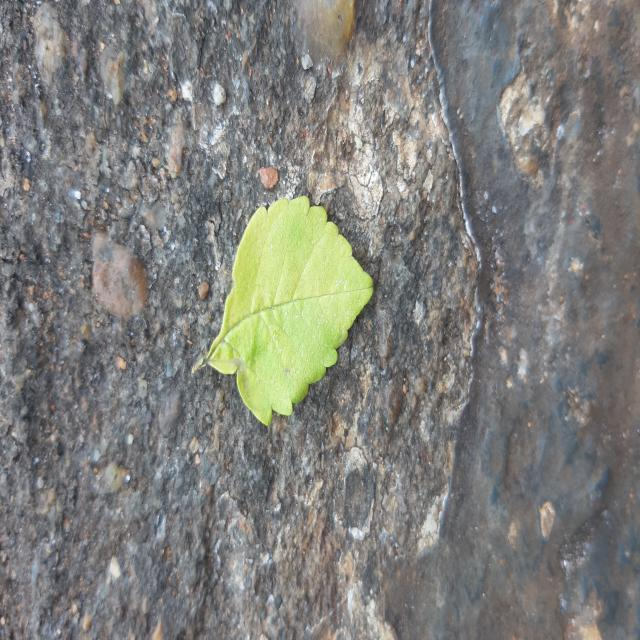tecoma: (192, 198, 374, 424)
